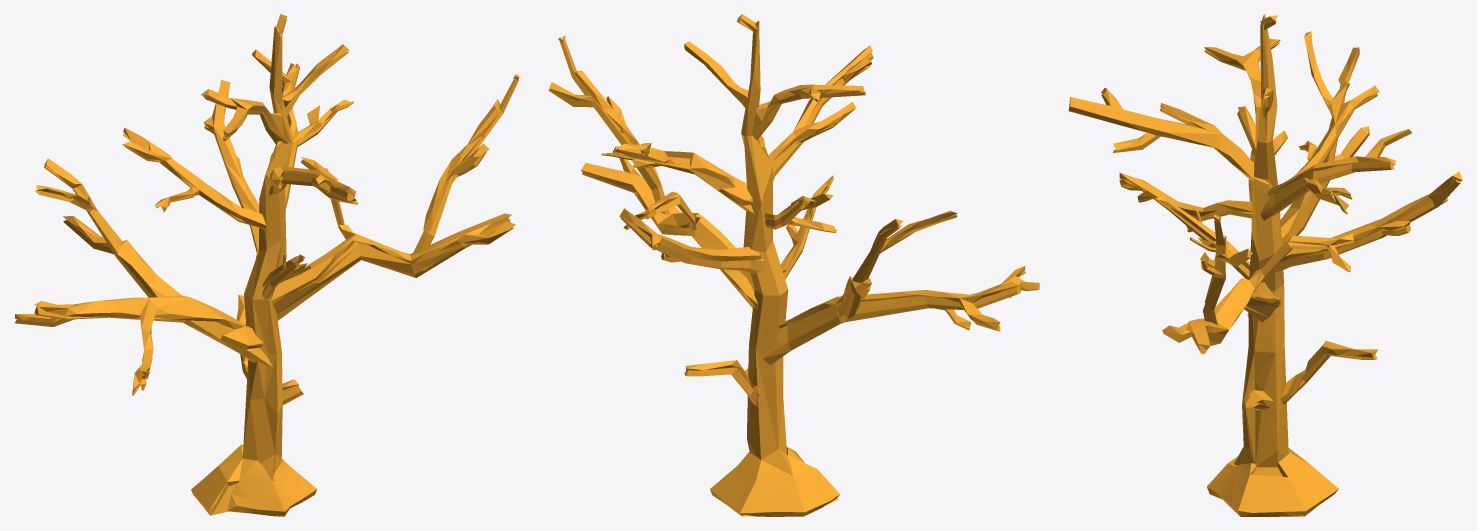
File: SM_Tree_Oak_Mature_A_Bare_Snow.fbx
The picture shows the model from 3 angles, left to right: view 1: azimuth 30°, elevation 25°; view 2: azimuth 150°, elevation 25°; view 3: azimuth 270°, elevation 25°; orthographic projection. The views are drawn at different scales.
Parts seen in each view (by area): view 1: tree-oak-mature-a-bare-snow; view 2: tree-oak-mature-a-bare-snow; view 3: tree-oak-mature-a-bare-snow.
Part boxes in pixels (x1,y1,x2,y2): tree-oak-mature-a-bare-snow: (15,14,519,516); tree-oak-mature-a-bare-snow: (548,14,1039,516); tree-oak-mature-a-bare-snow: (1068,14,1462,516).
Size of the model in its own units: 8.55 by 8.15 by 5.9.
